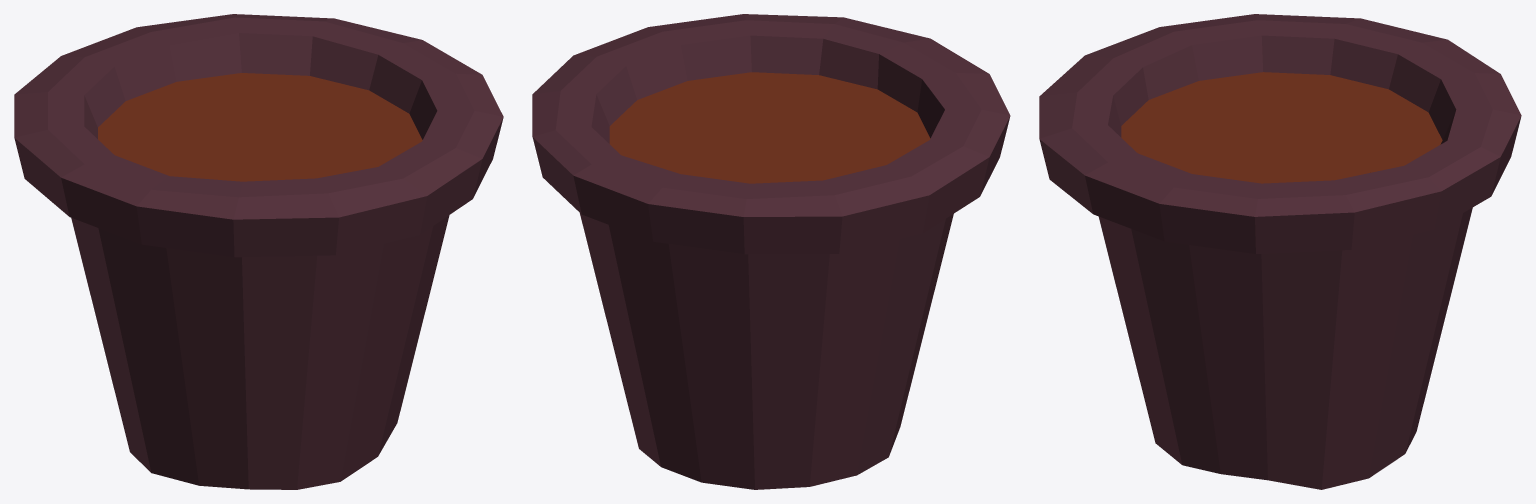
The model's file is Pot_1a_pot.fbx.
3 renders of one model, left to right at view 1: azimuth 30°, elevation 25°; view 2: azimuth 150°, elevation 25°; view 3: azimuth 270°, elevation 25°, orthographic.
Visible parts, largest first — view 1: Sphere.001; view 2: Sphere.001; view 3: Sphere.001.
Part boxes in pixels (bbox=[...]): Sphere.001: bbox=[14, 14, 503, 489]; Sphere.001: bbox=[532, 14, 1010, 489]; Sphere.001: bbox=[1039, 14, 1521, 489].
Bounding box in the file's own units: 111 × 83.59 × 111.
